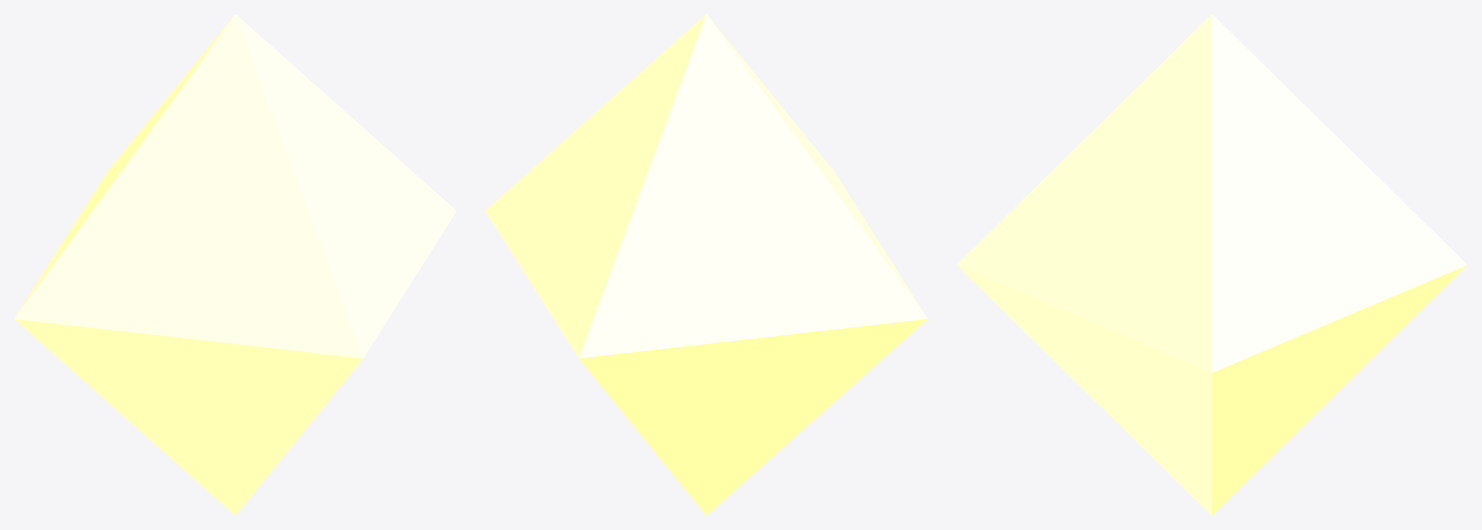
Rendered from mote.glb.
The picture shows the model from 3 angles, left to right: view 1: azimuth 30°, elevation 25°; view 2: azimuth 150°, elevation 25°; view 3: azimuth 270°, elevation 25°; orthographic projection.
Parts seen in each view (by area): view 1: Mote; view 2: Mote; view 3: Mote.
Part boxes in pixels (left/top/right/bottom): Mote: left=14, top=14, right=456, bottom=515; Mote: left=485, top=14, right=927, bottom=515; Mote: left=957, top=14, right=1466, bottom=515.
Size of the model in its own units: 0.24 by 0.26 by 0.24.
